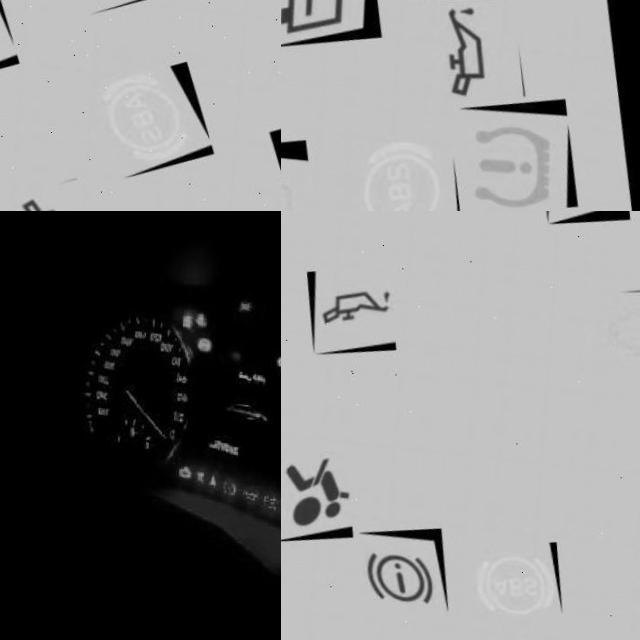Seat Belt: (207, 472, 219, 487)
